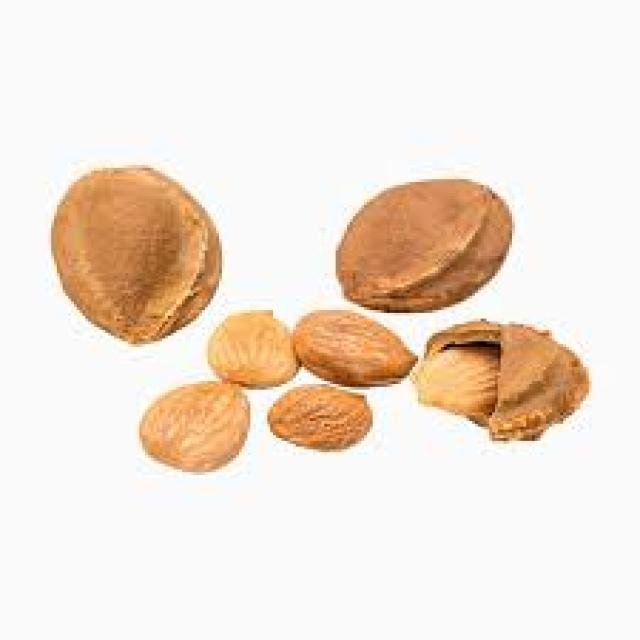cekirdek: (57, 165, 219, 343), (337, 175, 515, 308), (421, 320, 588, 437)
